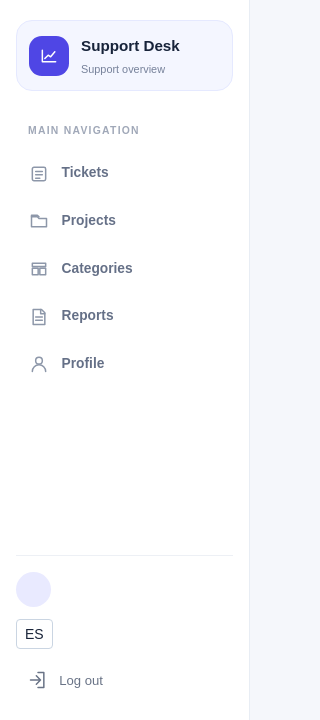
AppShellComponent › switches language in place without navigating or reloading
The width and height of the screenshot is (320, 720).
What coordinates should you click on to do the following:
click the button "ES"
I would click on:
 (34, 634)
Its box is [16,619,53,649].
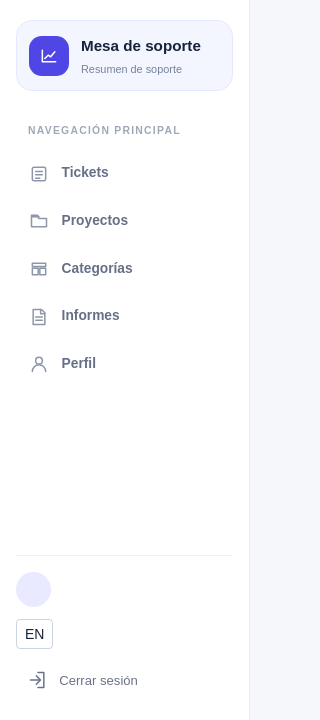
Expected: the text "Cerrar sesión" is shown, [59,671,138,690]
